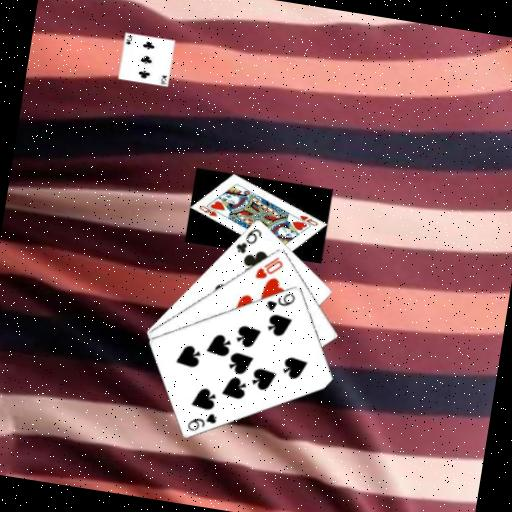10H: (251, 250, 285, 283)
6C: (232, 222, 264, 256)
9S: (262, 285, 298, 315), (183, 406, 219, 436)
